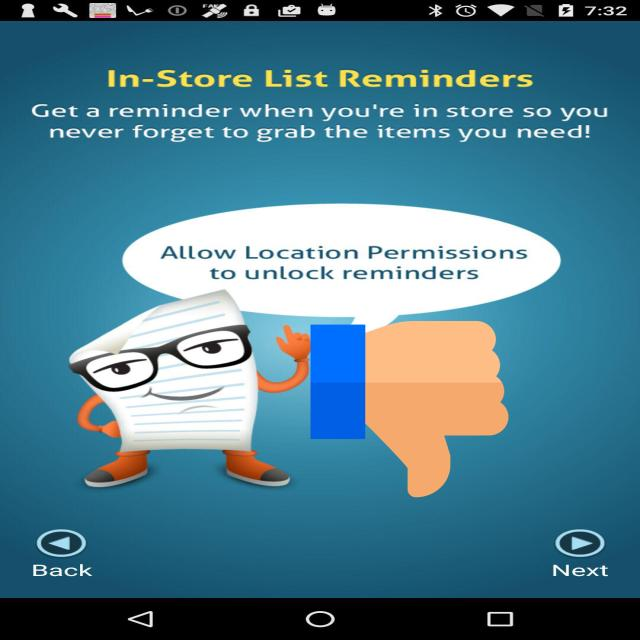obstruction: (311, 316, 508, 502)
